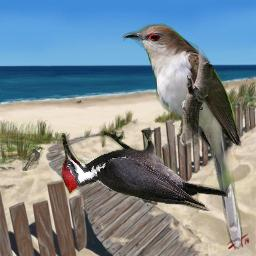Cuckoo: (121, 23, 243, 249), (22, 147, 43, 171)
Woodpecker: (61, 130, 228, 211)
